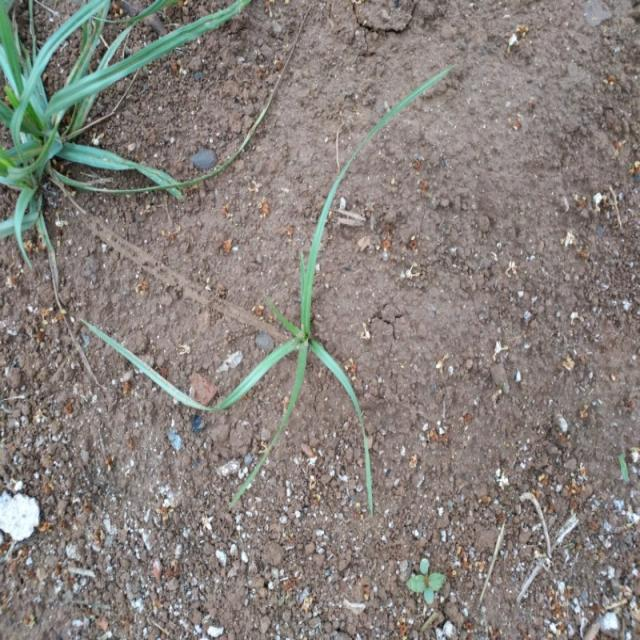sedge: (107, 150, 424, 468), (0, 5, 188, 288)
